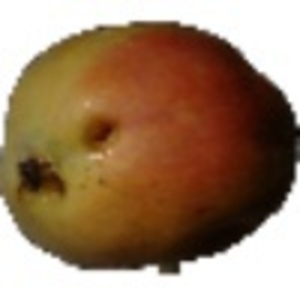mamão: (6, 17, 296, 267)
